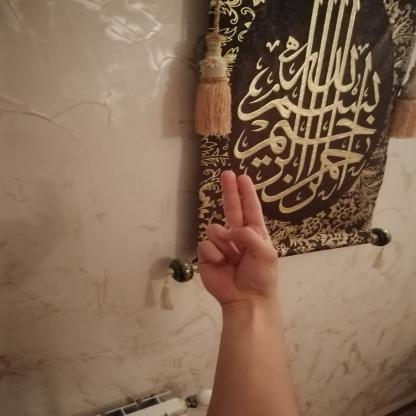TA: (178, 159, 292, 309)
